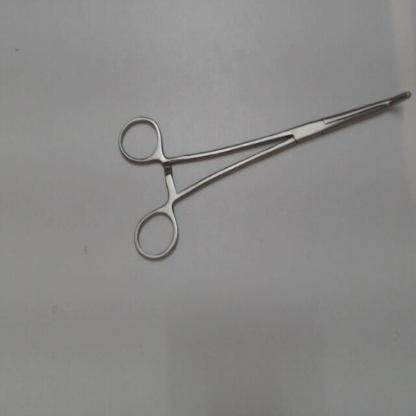Lahey Forceps: (114, 84, 413, 267)
